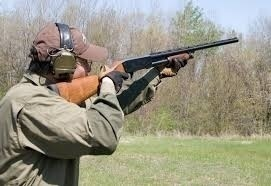pistol: (90, 35, 242, 93)
